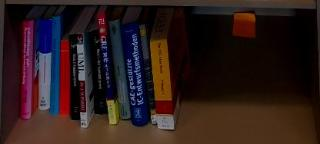book-spine: (120, 20, 150, 129), (108, 18, 131, 121), (150, 39, 175, 132), (97, 13, 117, 126), (139, 21, 157, 125), (87, 29, 107, 115), (20, 19, 35, 121), (48, 15, 61, 116), (38, 19, 51, 111), (76, 33, 87, 129), (68, 34, 80, 121), (59, 41, 70, 116)
